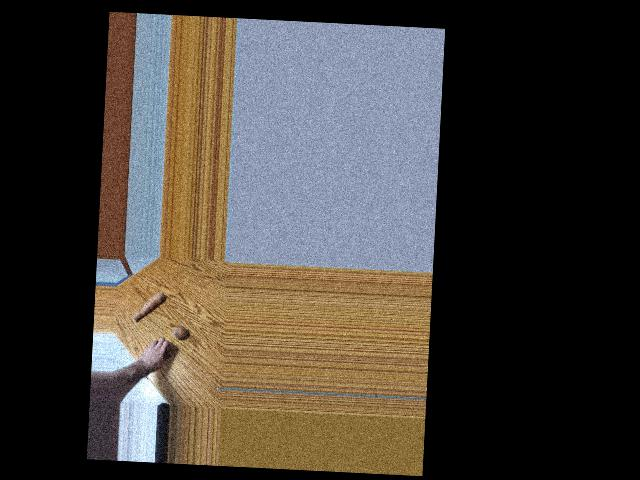onion: (155, 344, 171, 360)
